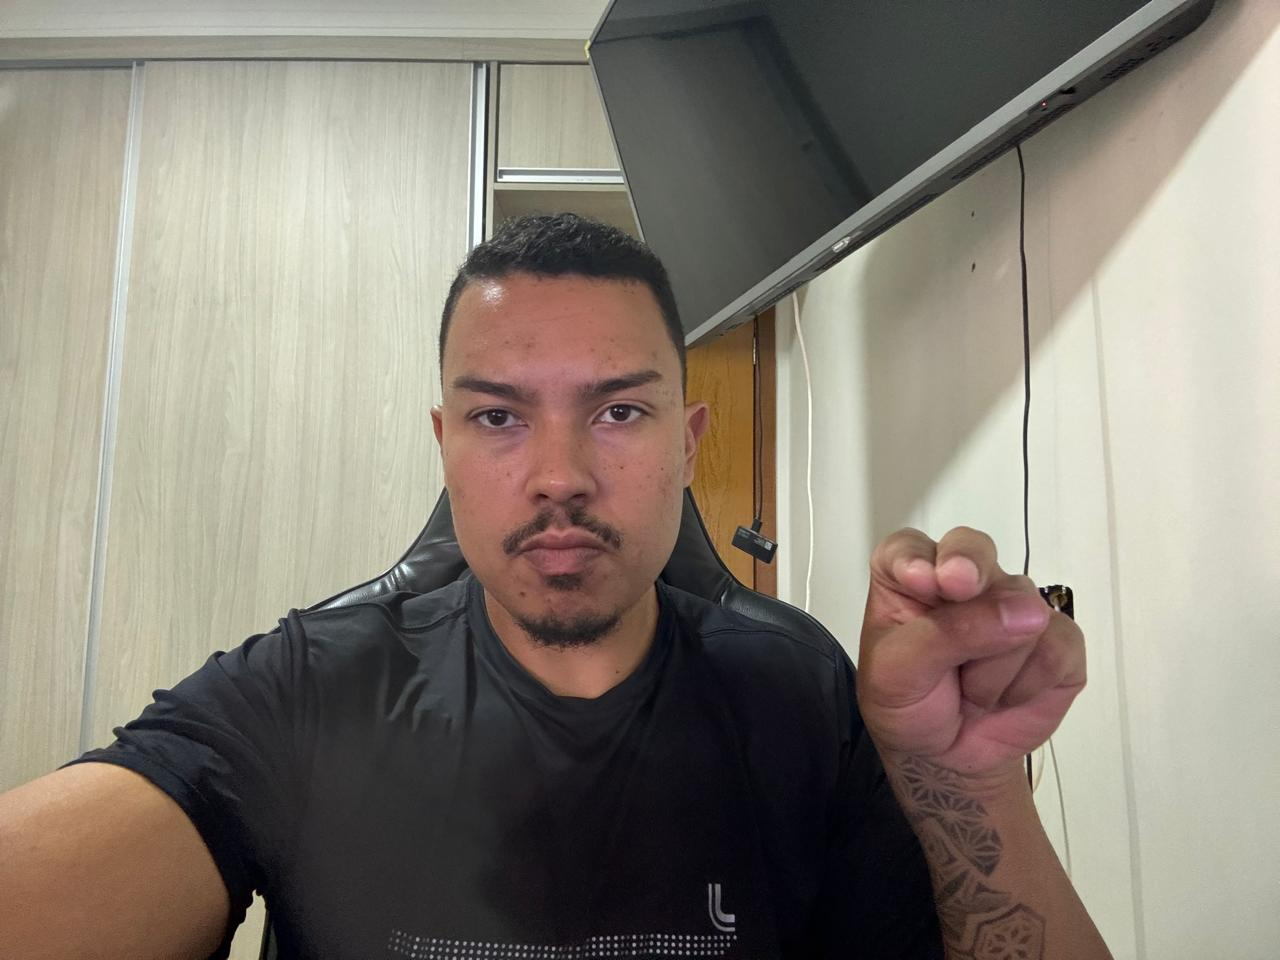n: (840, 520, 1101, 786)
